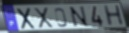0: (54, 7, 68, 28)
4: (90, 6, 105, 28)
H: (103, 5, 126, 28)
N: (68, 6, 90, 29)
X: (16, 7, 37, 31), (33, 7, 55, 29)
